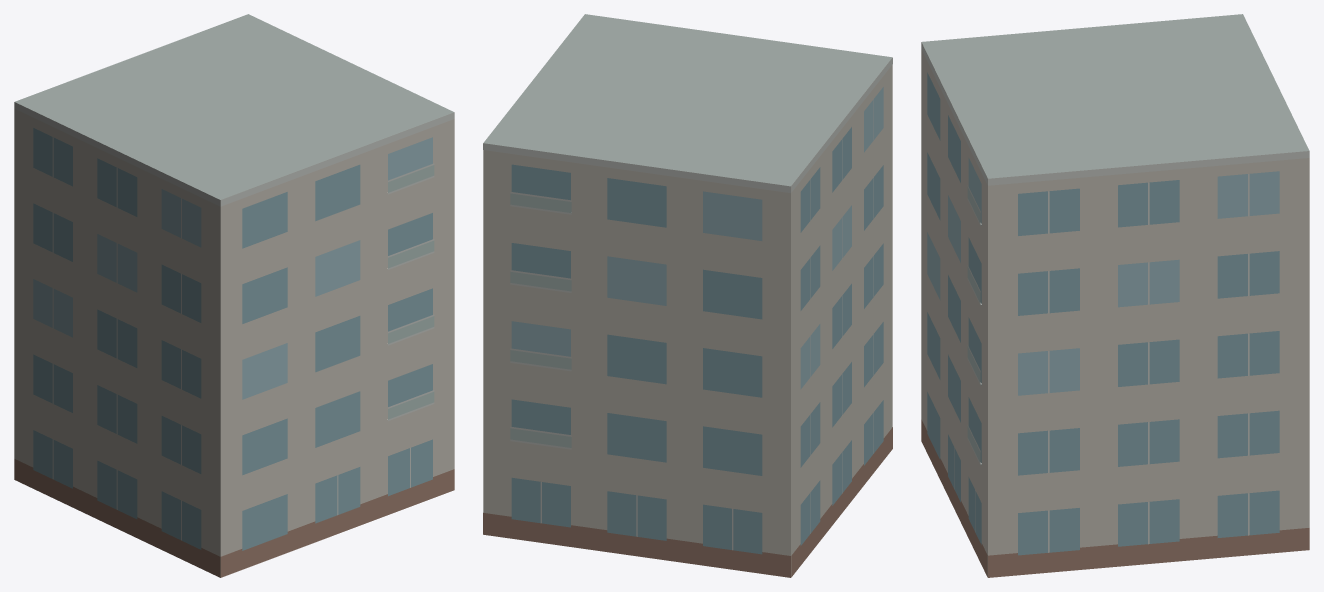
File: survey-upis-32889978.glb
3 renders of one model, left to right at view 1: azimuth 30°, elevation 25°; view 2: azimuth 150°, elevation 25°; view 3: azimuth 270°, elevation 25°, orthographic. The views are drawn at different scales.
Parts seen in each view (by area): view 1: survey-upis-32889978.tmp; view 2: survey-upis-32889978.tmp; view 3: survey-upis-32889978.tmp.
Part boxes in pixels (<box>): survey-upis-32889978.tmp: <box>14,14,454,577</box>; survey-upis-32889978.tmp: <box>483,14,892,577</box>; survey-upis-32889978.tmp: <box>921,14,1309,577</box>.
Size of the model in its own units: 12.32 by 13.9 by 12.26.
